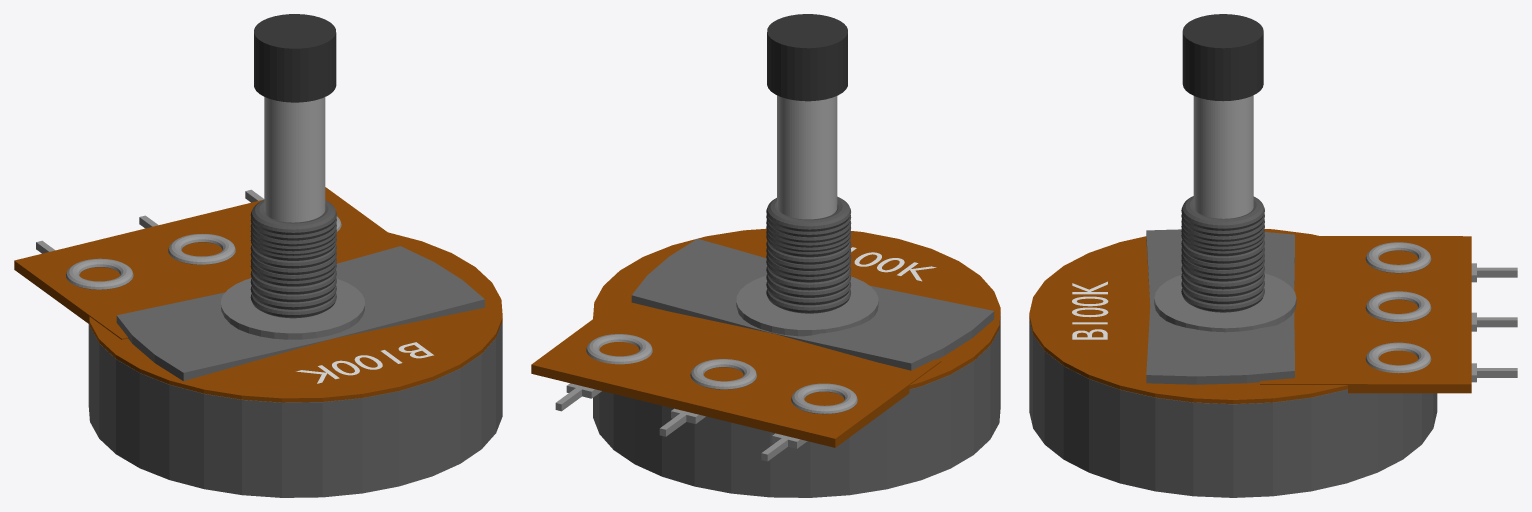
File: potentiometer_100K.fbx
3 renders of one model, left to right at view 1: azimuth 30°, elevation 25°; view 2: azimuth 150°, elevation 25°; view 3: azimuth 270°, elevation 25°, orthographic.
Visible parts, largest first — view 1: Torus.014, Cylinder.006, Cylinder.005, Text; view 2: Torus.014, Cylinder.006, Cylinder.005, Text; view 3: Torus.014, Cylinder.006, Cylinder.005, Text.
Part boxes in pixels (box(x1,y1,x2,y2)): Torus.014: box(14, 187, 502, 497); Cylinder.006: box(264, 97, 325, 222); Cylinder.005: box(254, 14, 336, 102); Text: box(296, 342, 433, 383); Torus.014: box(531, 196, 1000, 497); Cylinder.006: box(777, 95, 837, 219); Cylinder.005: box(767, 14, 847, 101); Text: box(851, 247, 936, 281); Torus.014: box(1029, 196, 1517, 497); Cylinder.006: box(1193, 95, 1253, 218); Cylinder.005: box(1182, 14, 1263, 101); Text: box(1072, 281, 1108, 339).
Bounding box in the file's own units: 121 × 124 × 145.
